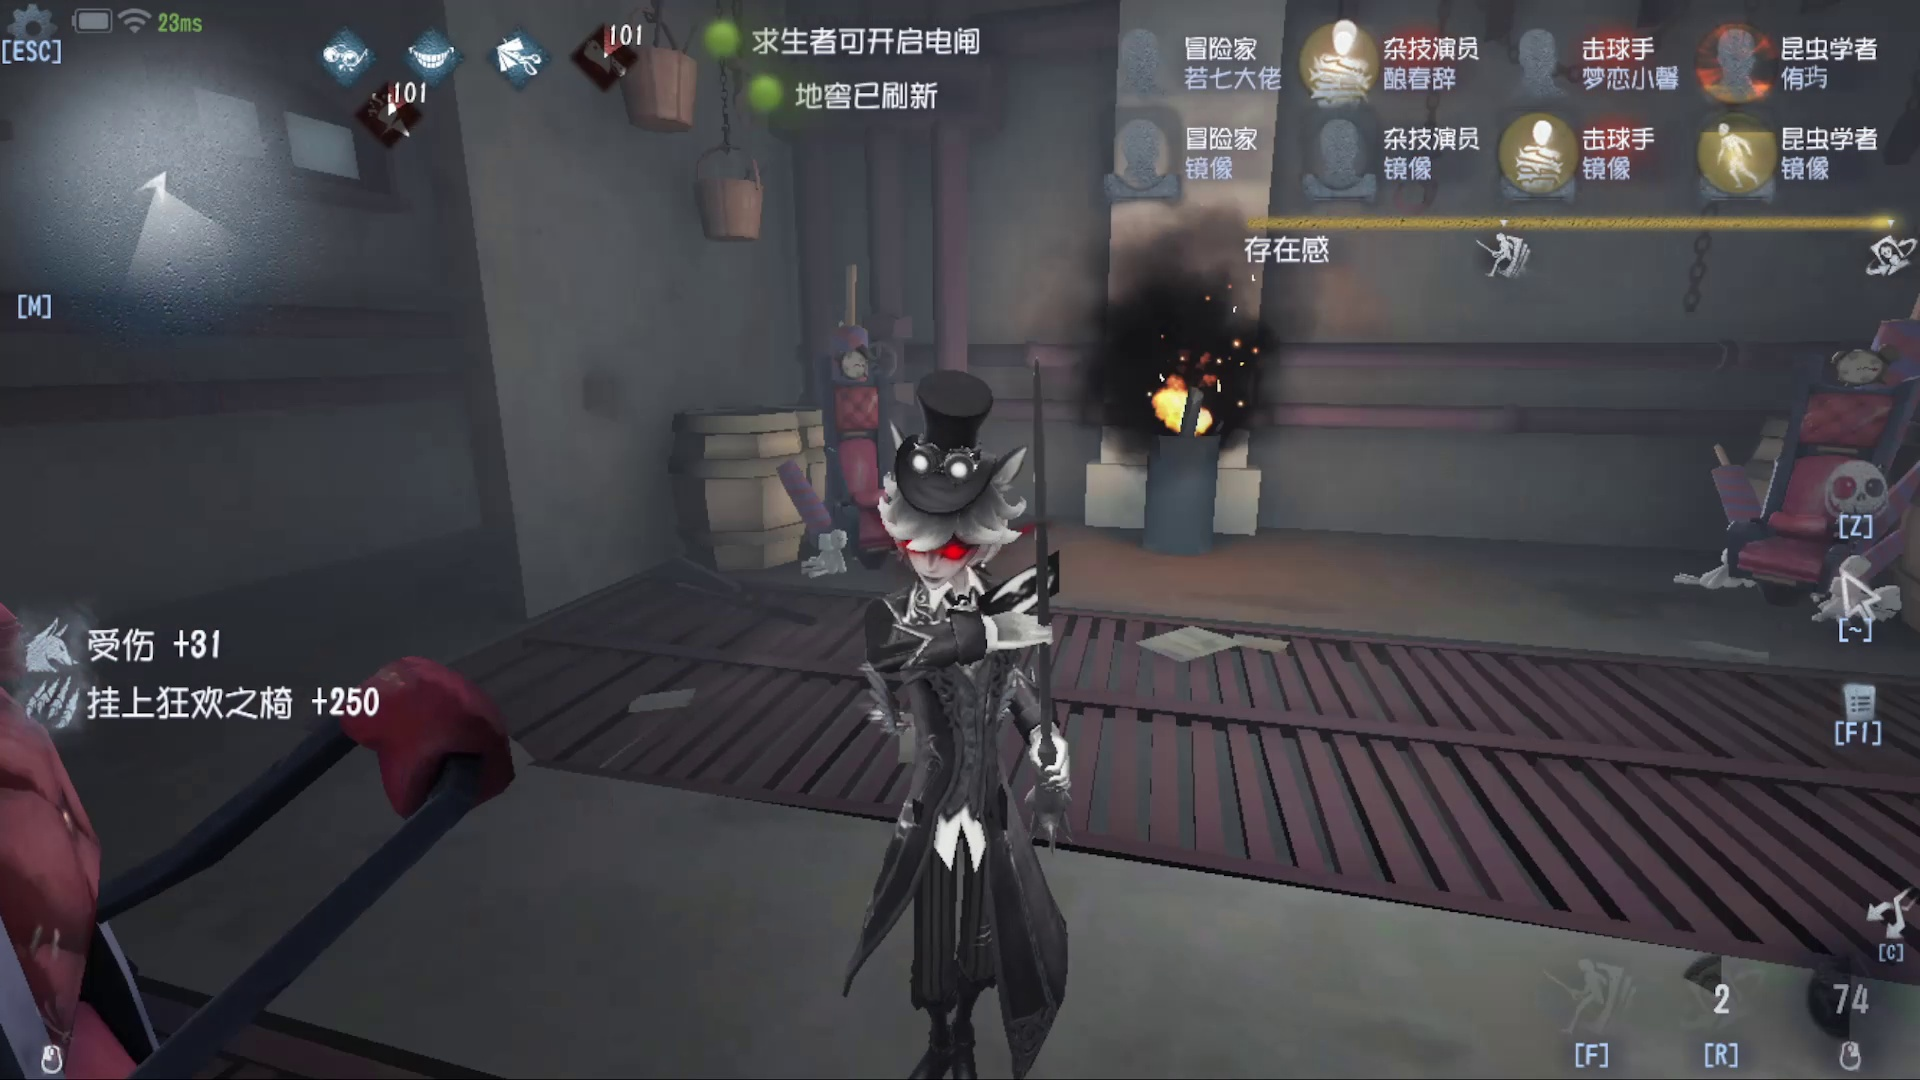狂欢之椅: (818, 262, 924, 571)
